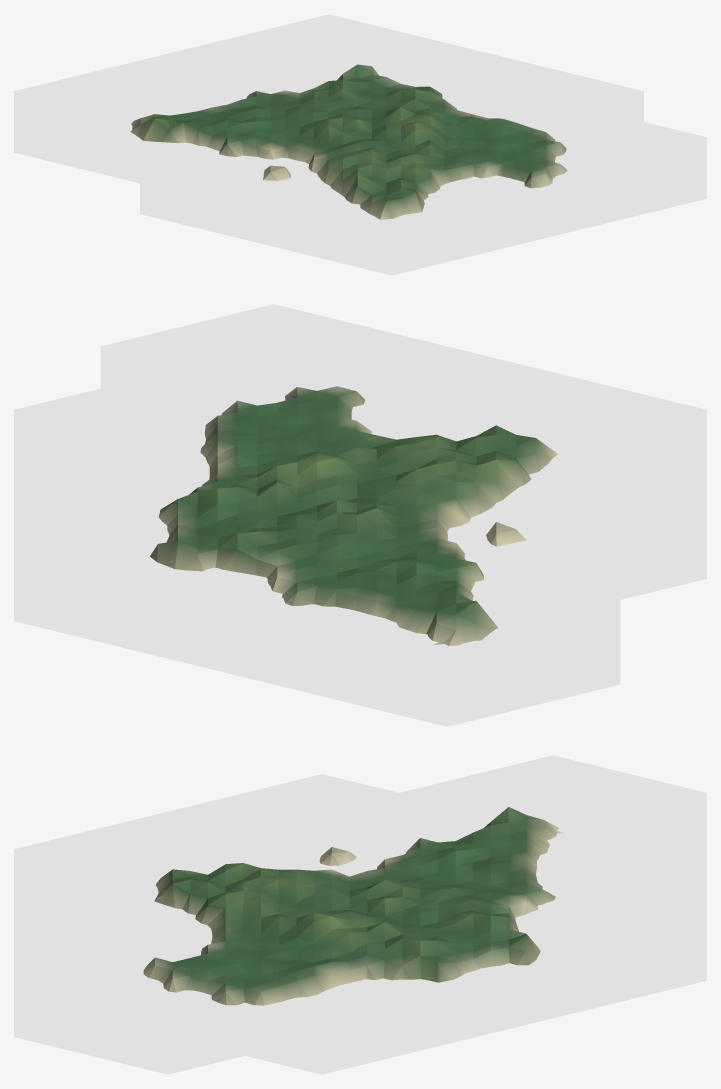
The model's file is landmark-boipeba-low.v1.glb.
The picture shows the model from 3 angles, top to bottom: view 1: azimuth 30°, elevation 25°; view 2: azimuth 150°, elevation 25°; view 3: azimuth 270°, elevation 25°; orthographic projection. The views are drawn at different scales.
Parts seen in each view (by area): view 1: surf, island; view 2: surf, island; view 3: surf, island.
Part boxes in pixels (box(x1,y1,x2,y2)): surf: box(14, 14, 706, 275); island: box(130, 64, 567, 219); surf: box(14, 304, 706, 726); island: box(150, 386, 557, 645); surf: box(14, 755, 706, 1074); island: box(143, 807, 563, 1005).
Bounding box in the file's own units: 42.84 × 4.72 × 39.28.
